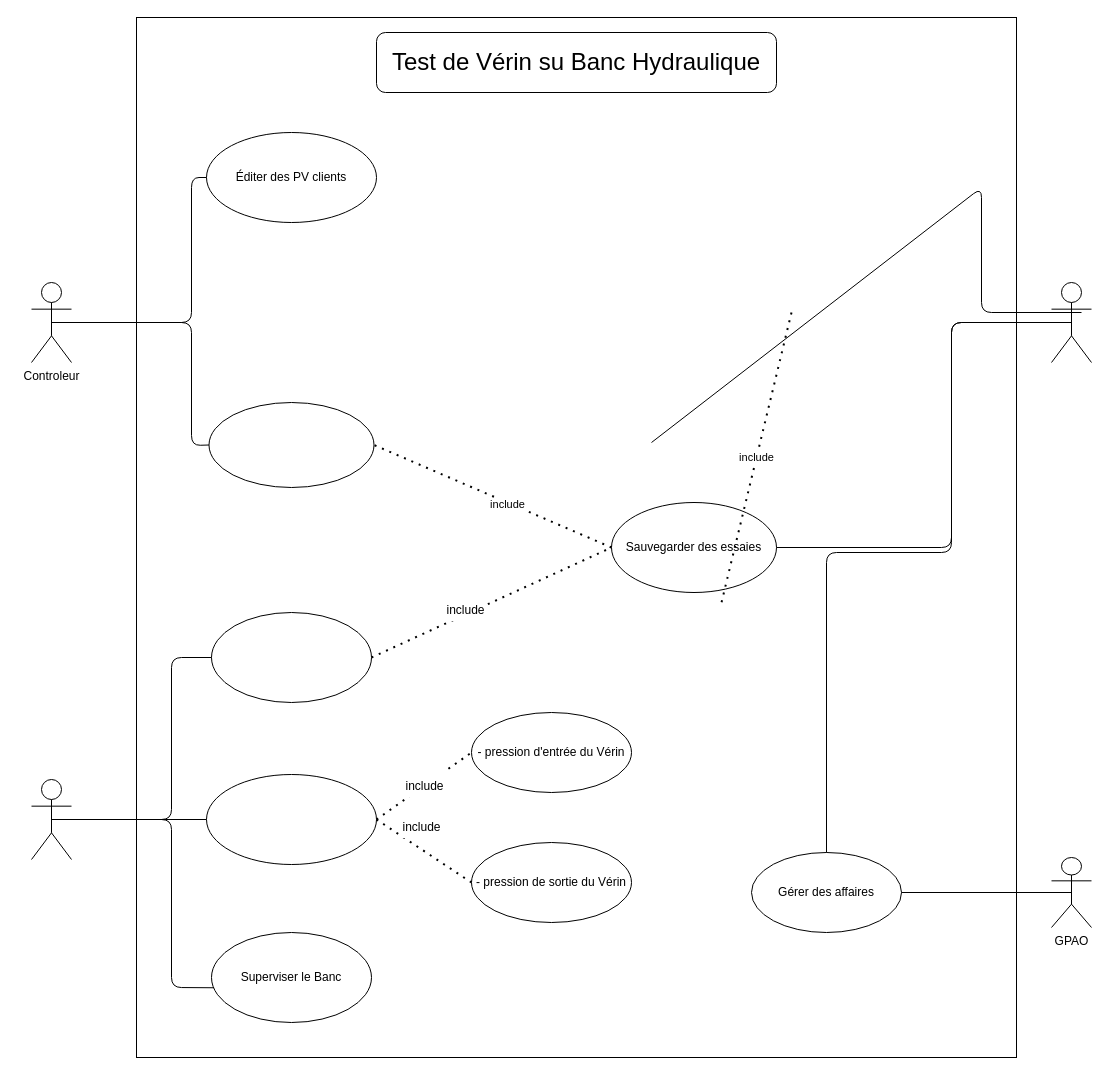
The diagram is 1109 pixels wide and 1075 high, and some of its shapes have lost their labels. The shapes that lost their labels are listed below. From the top down, each one's centre as x and y in pixels, then its label:
At point 1071,322: "BDD".
At point 291,445: "Gérer des essais".
At point 291,657: "Gérer des Acquisitions".
At point 51,819: "Manipulateur".
At point 291,819: "Visualiser des courbes en direct".
